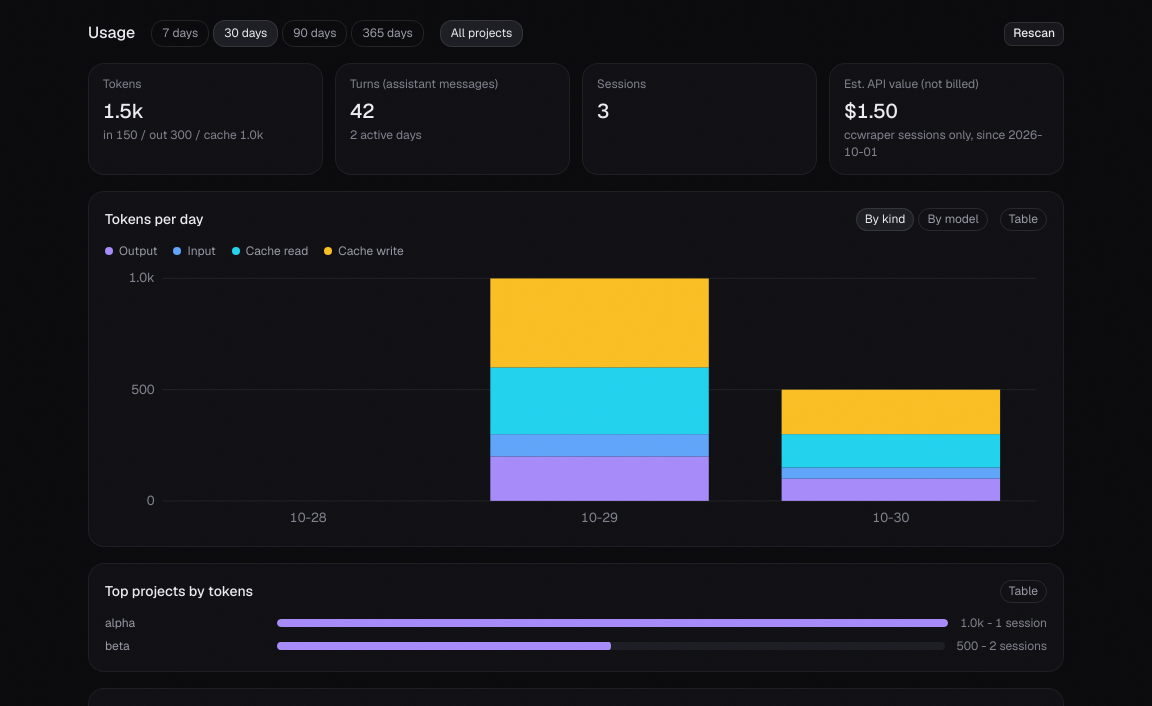
UsagePage › Table toggle shows the same numbers
Expected: the element with test id "kpi-row" is shown, [88,63,1064,174]
Click the button "Table" in the row of "Tokens per day".
click(1023, 219)  # box [1000,208,1047,231]
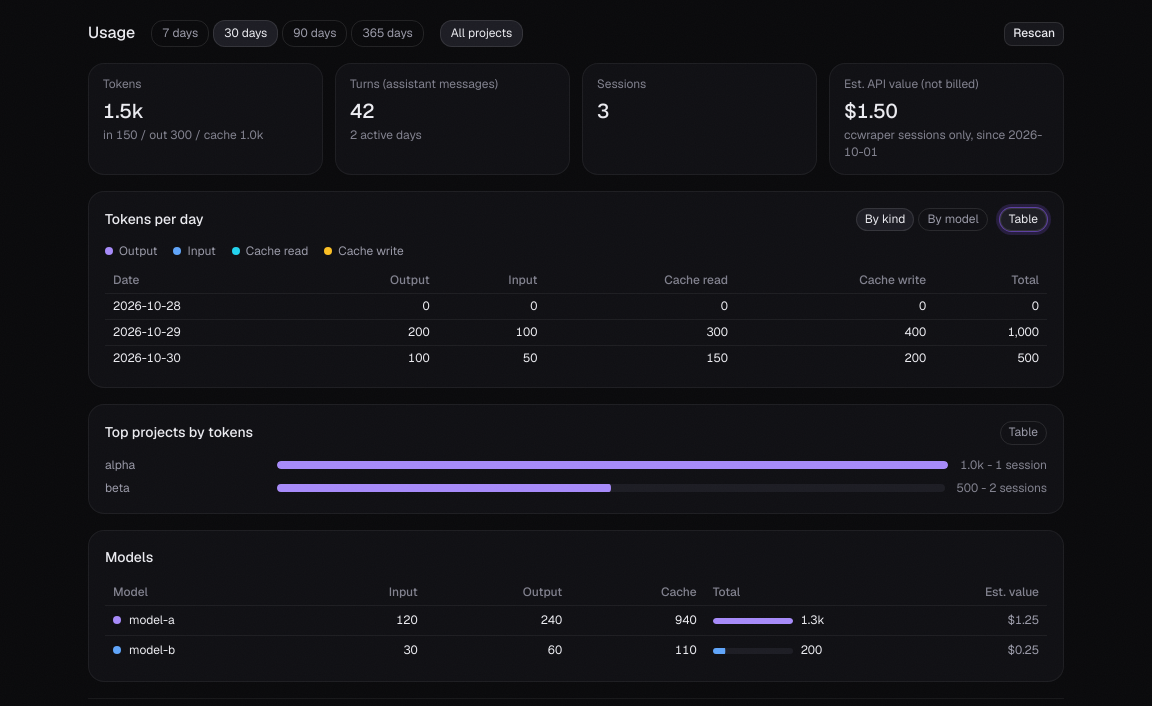
Result: the row "2026-10-29 200 100 300 400 1,000" is shown at [105,320,1047,346]
